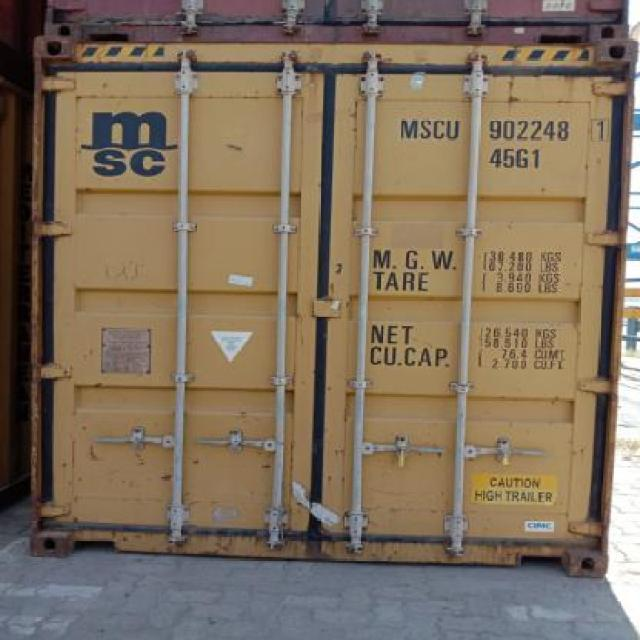ISO: (489, 146, 544, 171)
container_number: (402, 116, 616, 141)
